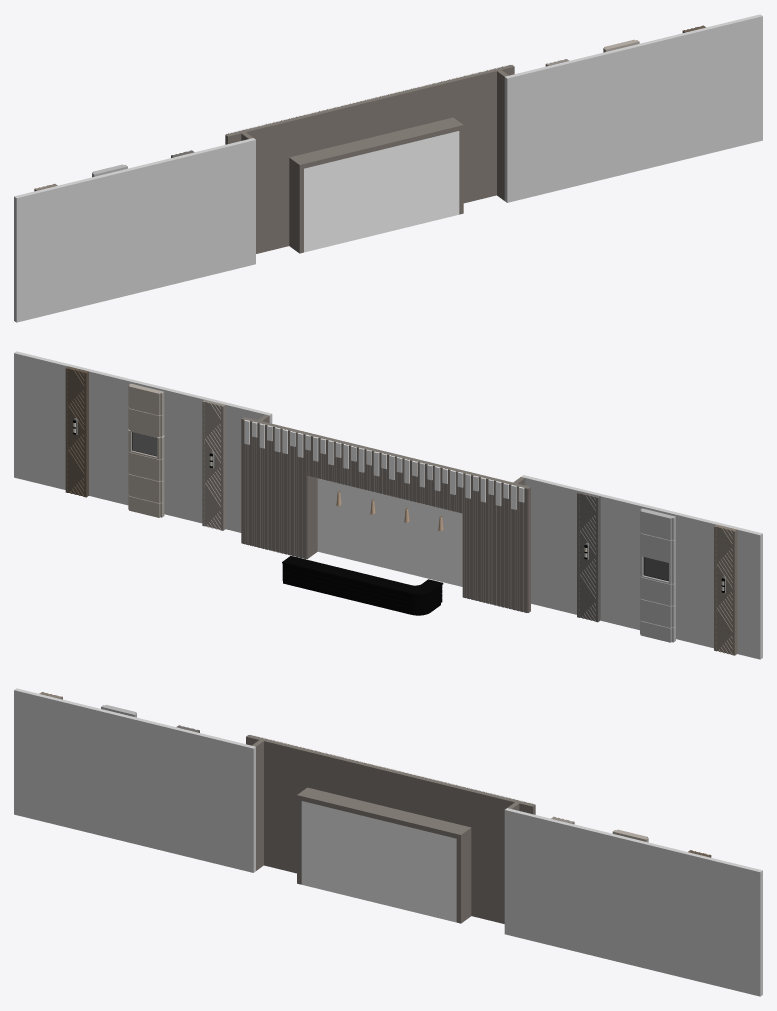
The model's file is 装饰墙面.fbx.
The picture shows the model from 3 angles, top to bottom: view 1: azimuth 30°, elevation 25°; view 2: azimuth 150°, elevation 25°; view 3: azimuth 330°, elevation 25°; orthographic projection.
Visible parts, largest first — view 1: polySurface13, polySurface7827; view 2: polySurface7827, polySurface13, polySurface319, polySurface290, polySurface7825, polySurface7828, polySurface7829, polySurface7824; view 3: polySurface13, polySurface7827.
Part boxes in pixels (left/top/right/bottom): polySurface13: left=14, top=14, right=762, bottom=322; polySurface7827: left=225, top=65, right=514, bottom=253; polySurface7827: left=241, top=414, right=530, bottom=615; polySurface13: left=14, top=351, right=762, bottom=659; polySurface319: left=128, top=383, right=164, bottom=517; polySurface290: left=640, top=508, right=675, bottom=642; polySurface7825: left=202, top=399, right=225, bottom=530; polySurface7828: left=577, top=491, right=600, bottom=622; polySurface7829: left=714, top=524, right=737, bottom=655; polySurface7824: left=65, top=366, right=88, bottom=497; polySurface13: left=14, top=688, right=762, bottom=996; polySurface7827: left=246, top=735, right=535, bottom=923.
Bounding box in the file's own units: 3330 × 531 × 353.
